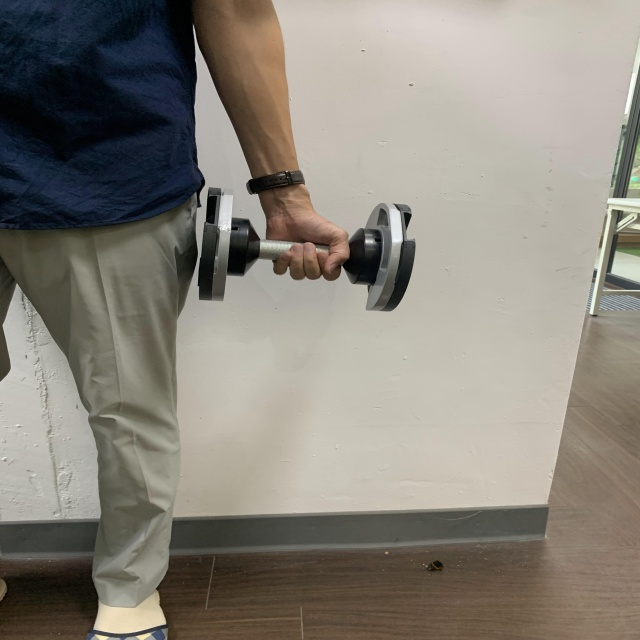02-4kg: (196, 182, 417, 316)
